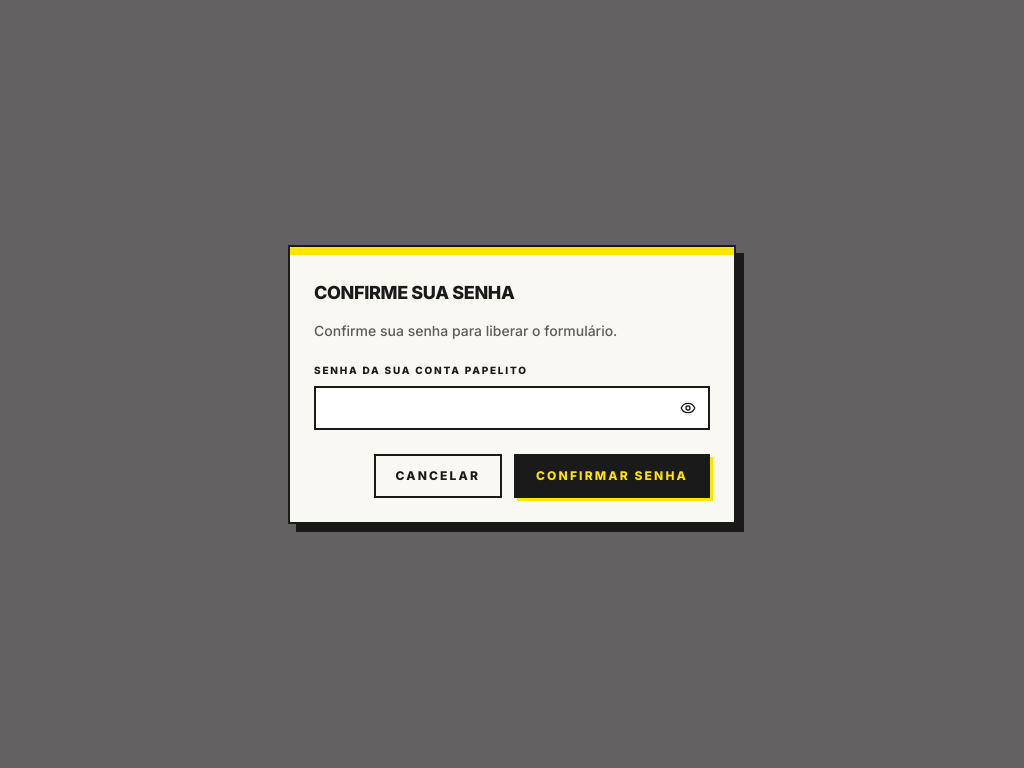
Scenario: VendorReauthModal › apaga a senha ao fechar, para ela não sobreviver ao diálogo
Type "senha-da-conta-papelito" into the password field labelled "Senha da sua conta Papelito". click: (512, 408)
box: [314,386,710,430]
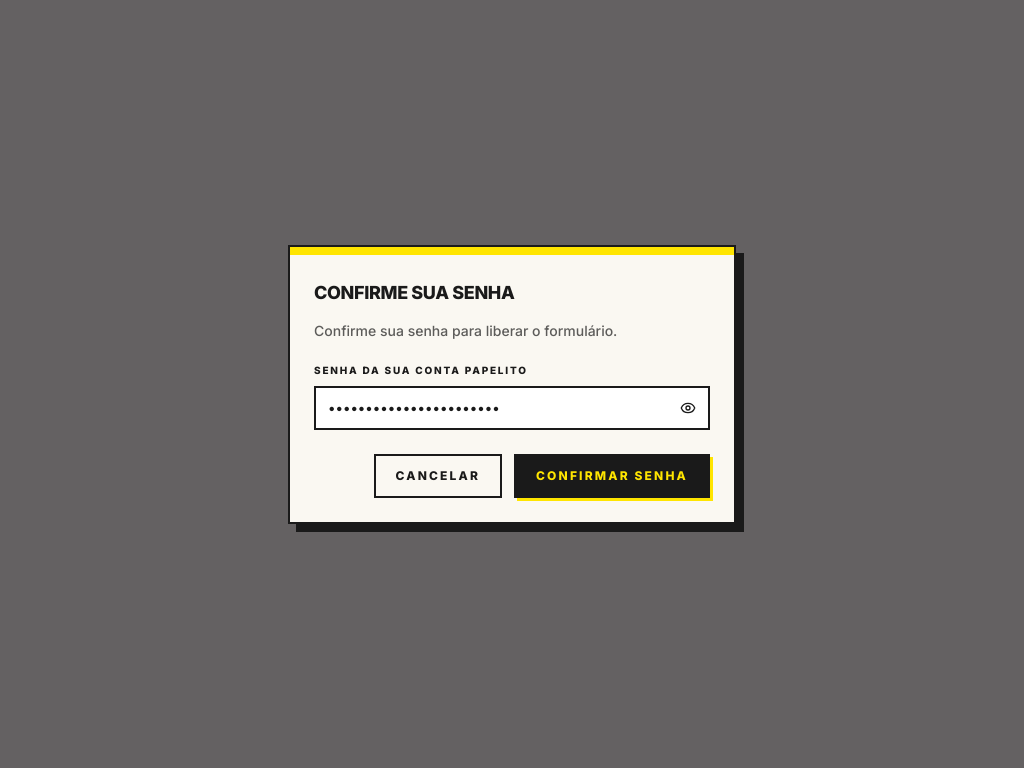
Click the button "Cancelar". click: (438, 476)
box: [374,454,502,498]
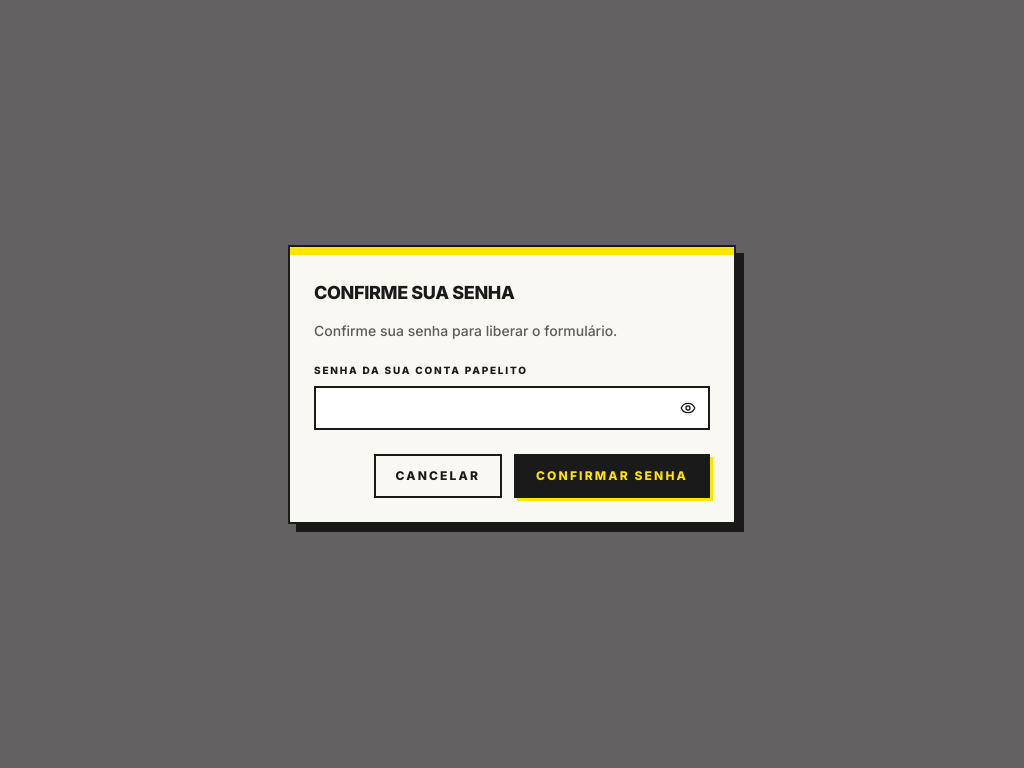
Result: the password field labelled "Senha da sua conta Papelito" is empty at [314,386,710,430]
